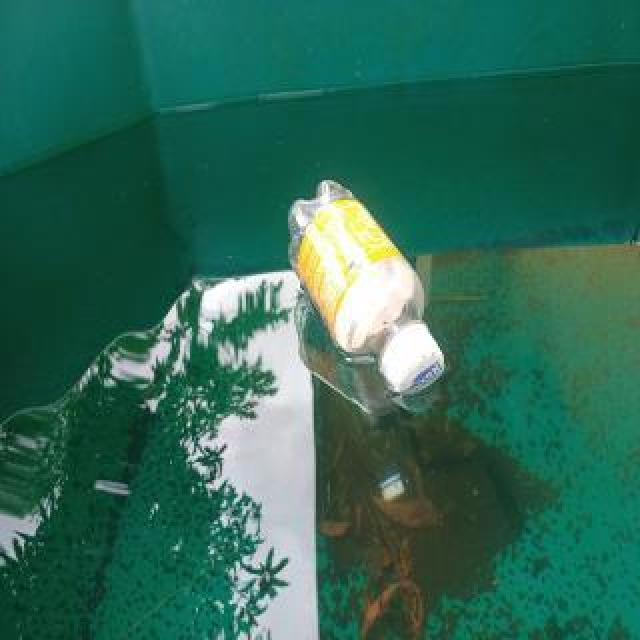bottle: (285, 174, 447, 400)
